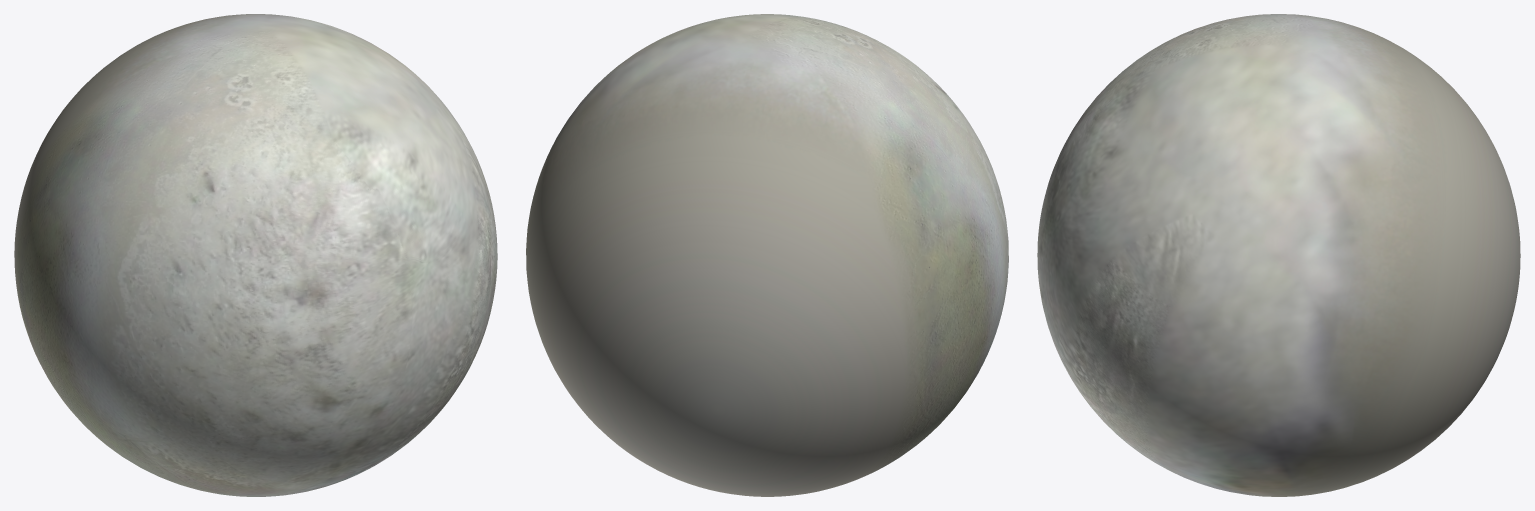
File: triton_4k.glb
The picture shows the model from 3 angles, left to right: view 1: azimuth 30°, elevation 25°; view 2: azimuth 150°, elevation 25°; view 3: azimuth 270°, elevation 25°; orthographic projection.
Parts seen in each view (by area): view 1: Esfera; view 2: Esfera; view 3: Esfera.
Part boxes in pixels (x1,y1,x2,y2): Esfera: [14, 14, 497, 496]; Esfera: [526, 14, 1008, 496]; Esfera: [1037, 14, 1520, 496].
Size of the model in its own units: 1999 by 2000 by 1999.
1 material, 1 textured.
